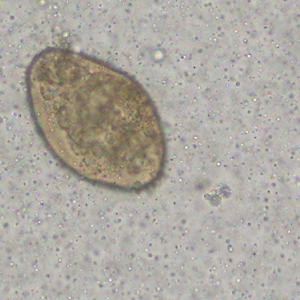Fasciola_hepatica_egg: (24, 45, 167, 192)
